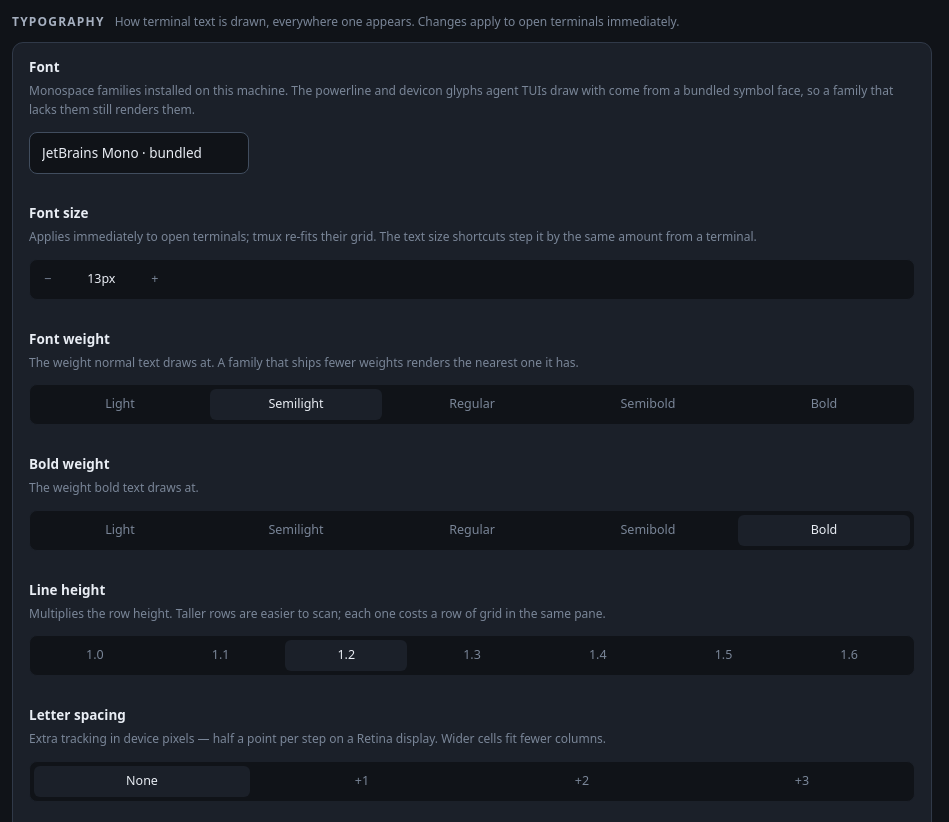
Scenario: TerminalSettingsView › nudges the terminal font size by the ladder step
Click the button with test id "settings-terminal-font-size-increase" at [155, 279], box [141,264,168,295]
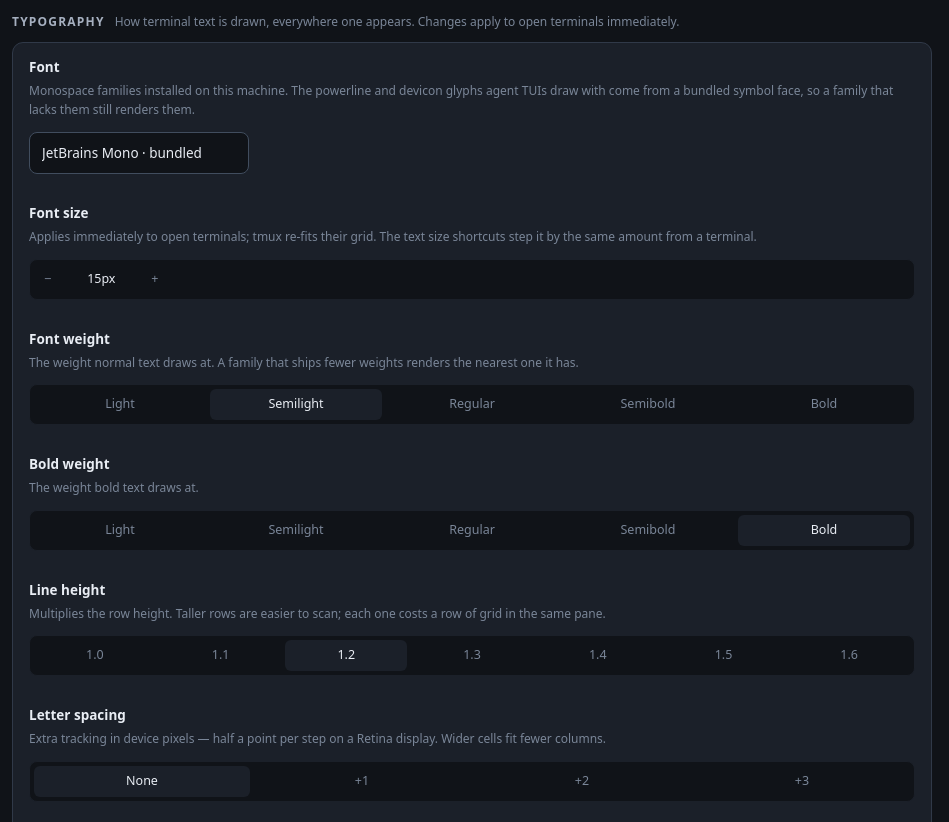
Result: the text with test id "settings-terminal-font-size-value" reads "15px" at [87,270,116,287]
Click the button with test id "settings-terminal-font-size-decrease" at [48, 279], box [34,264,61,295]
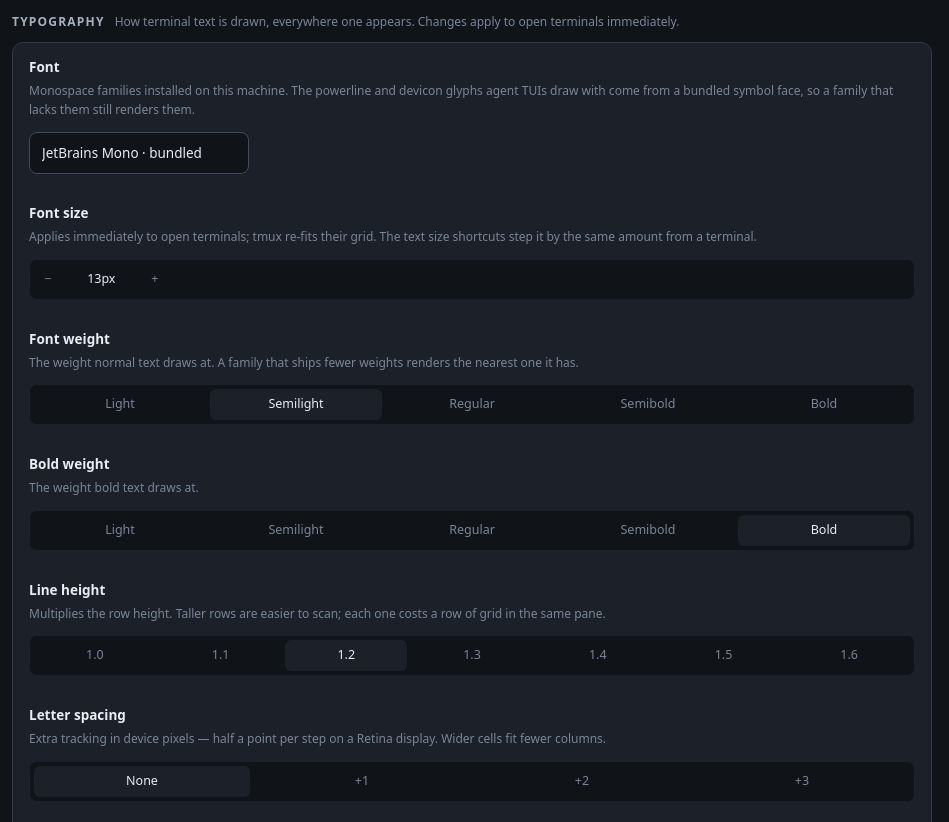
Result: the text with test id "settings-terminal-font-size-value" reads "13px" at [87,270,116,287]
